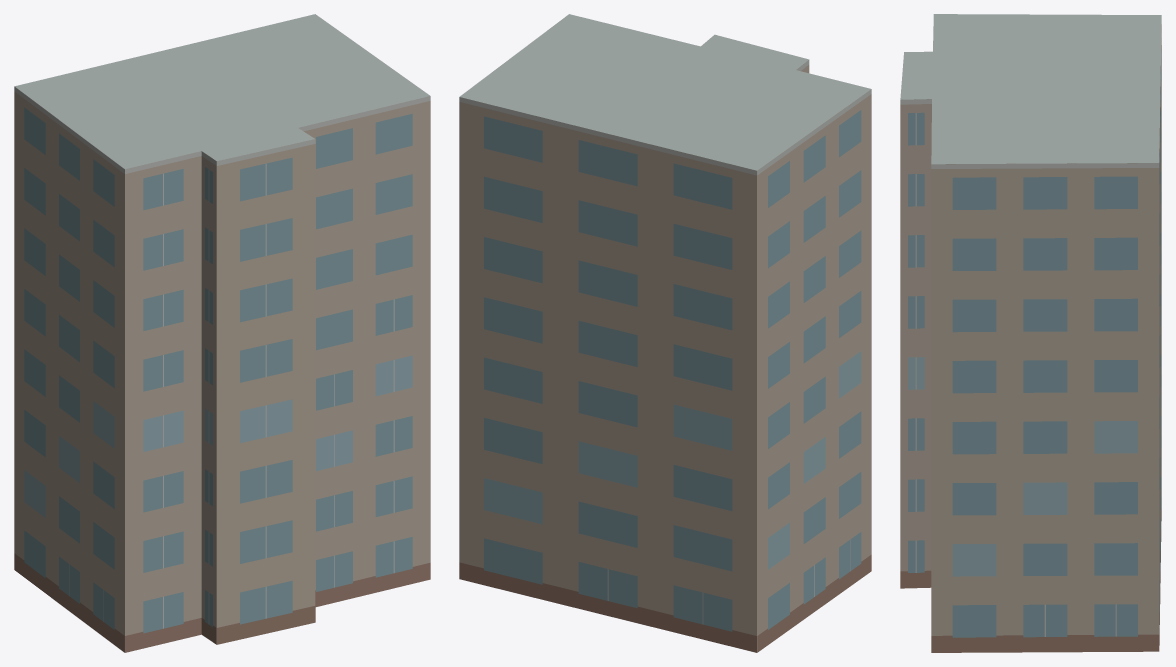
File: survey-upis-32752246.glb
The picture shows the model from 3 angles, left to right: view 1: azimuth 30°, elevation 25°; view 2: azimuth 150°, elevation 25°; view 3: azimuth 270°, elevation 25°; orthographic projection.
Visible parts, largest first — view 1: survey-upis-32752246.tmp; view 2: survey-upis-32752246.tmp; view 3: survey-upis-32752246.tmp.
Boxes of the visible parts, x1,y1,x2,y2 form: survey-upis-32752246.tmp: (14,14,430,652); survey-upis-32752246.tmp: (459,14,871,652); survey-upis-32752246.tmp: (900,14,1161,652).
Bounding box in the file's own units: 16.09 × 24.4 × 11.84.
